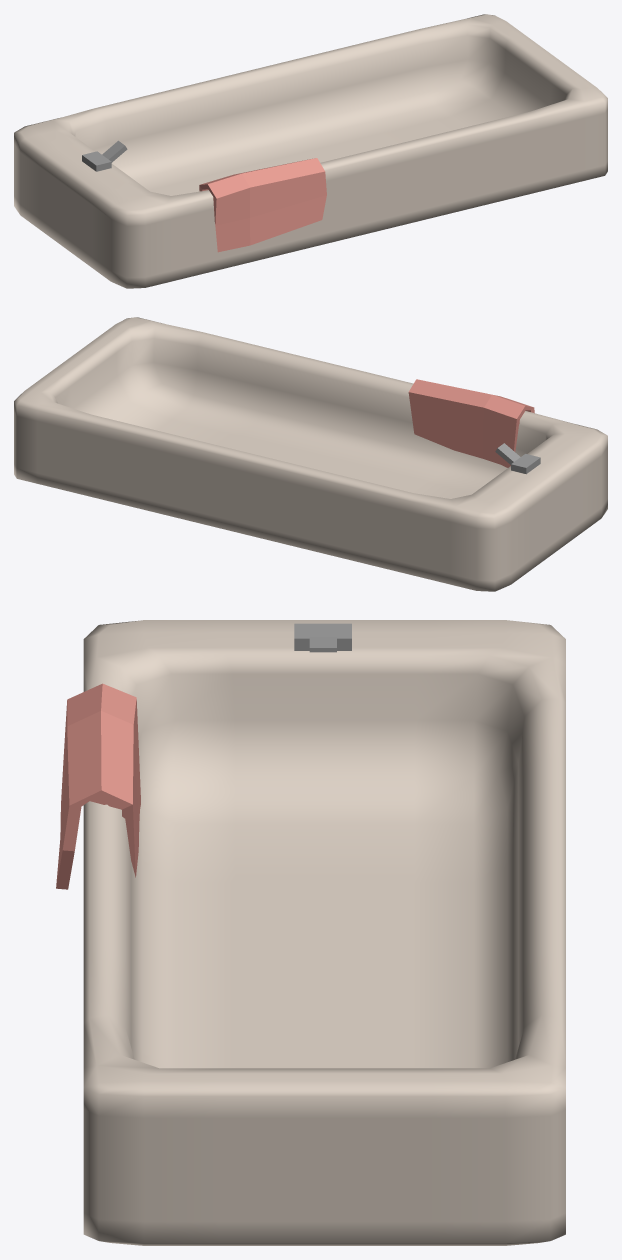
File: bath-transformed.glb
3 views of the same model, one above another, from view 1: azimuth 30°, elevation 25°; view 2: azimuth 150°, elevation 25°; view 3: azimuth 270°, elevation 25° (orthographic). The views are drawn at different scales.
Parts seen in each view (by area): view 1: Cube 75, Cube 80.001, Cube 4.008; view 2: Cube 75, Cube 80.001, Cube 4.008; view 3: Cube 75, Cube 80.001, Cube 4.008.
Part boxes in pixels (x1,y1,x2,y2): Cube 75: (14,14,607,288); Cube 80.001: (199,158,326,252); Cube 4.008: (82,151,111,171); Cube 75: (14,317,607,591); Cube 80.001: (408,379,534,467); Cube 4.008: (511,454,540,474); Cube 75: (83,620,565,1245); Cube 80.001: (56,683,140,889); Cube 4.008: (294,623,351,650).
Bounding box in the file's own units: 3.18 × 0.5941 × 1.44.
